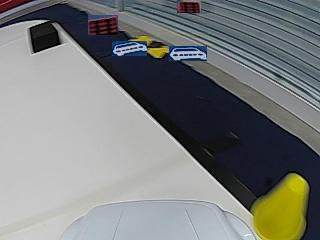block: (28, 22, 61, 53)
cone: (254, 173, 310, 238)
